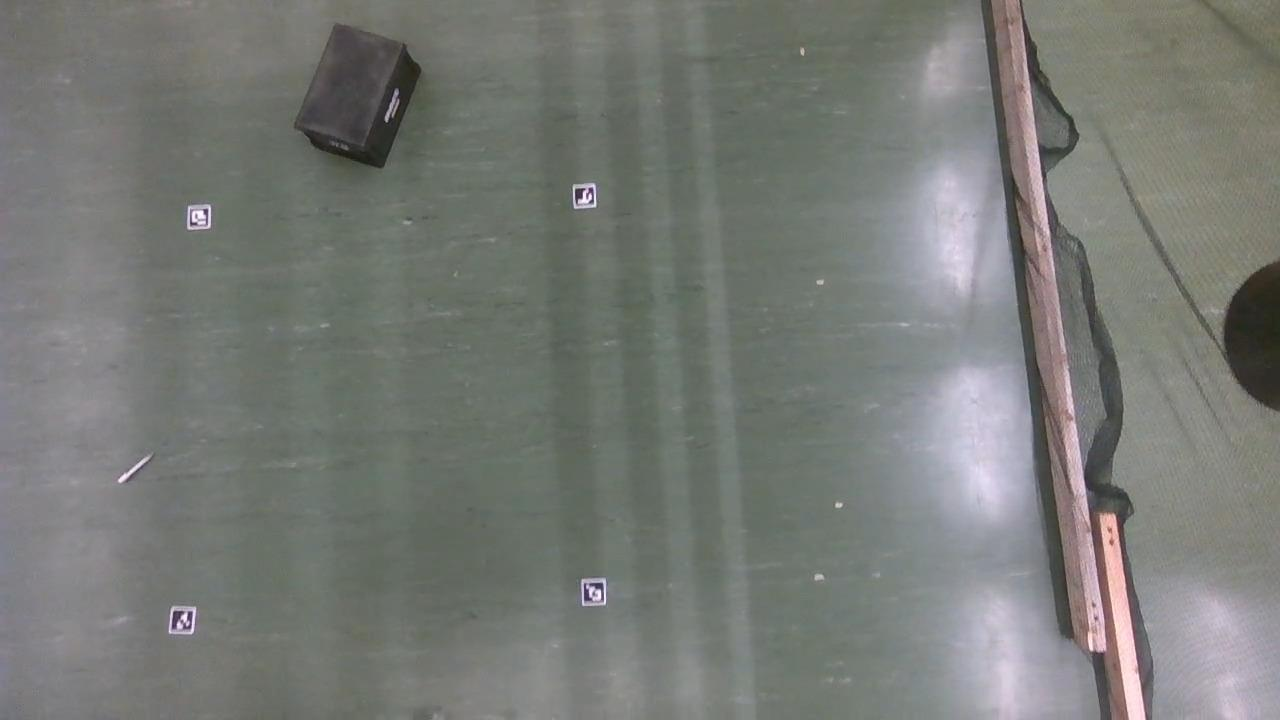probes: (117, 453, 152, 483)
rako: (293, 23, 420, 169)
